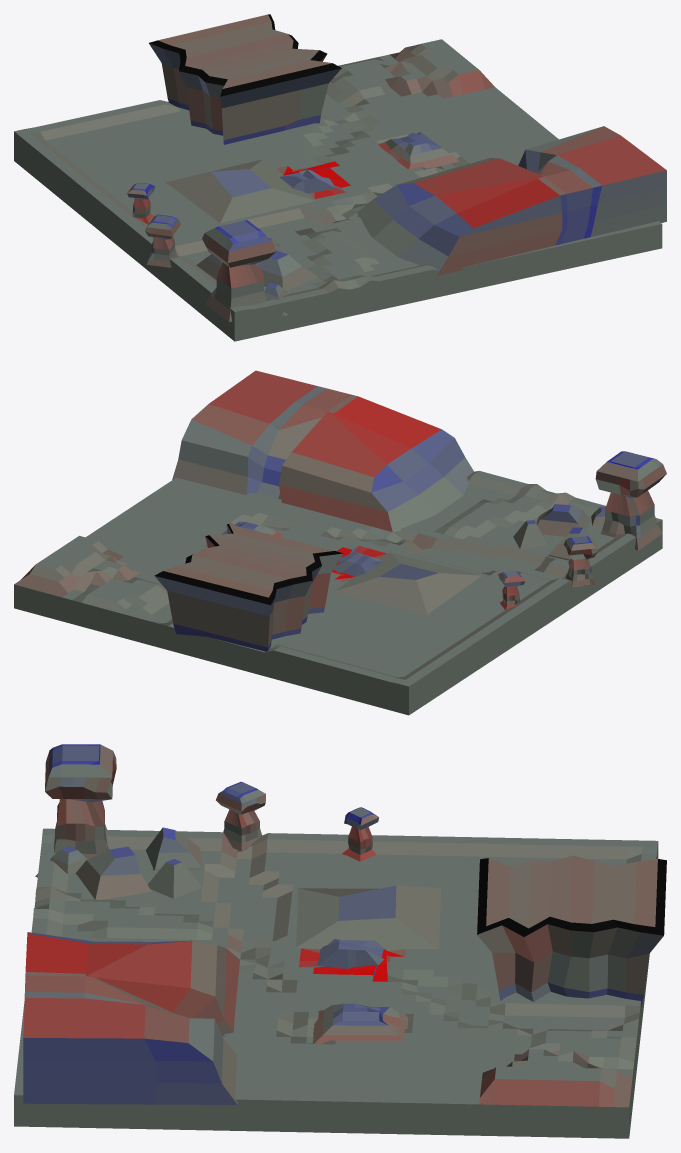
File: terrain2.fbx
3 views of the same model, one above another, from view 1: azimuth 30°, elevation 25°; view 2: azimuth 150°, elevation 25°; view 3: azimuth 270°, elevation 25° (orthographic). The views are drawn at different scales.
Visible parts, largest first — view 1: mesh; view 2: mesh; view 3: mesh.
Part boxes in pixels (x1=…): mesh: x1=14, y1=14, x2=666, y2=341; mesh: x1=14, y1=370, x2=666, y2=715; mesh: x1=14, y1=744, x2=666, y2=1138.
Bounding box in the file's own units: 9169 × 1912 × 9055.
